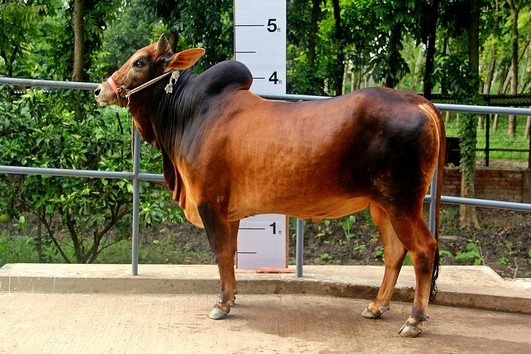cow: (88, 30, 453, 340)
